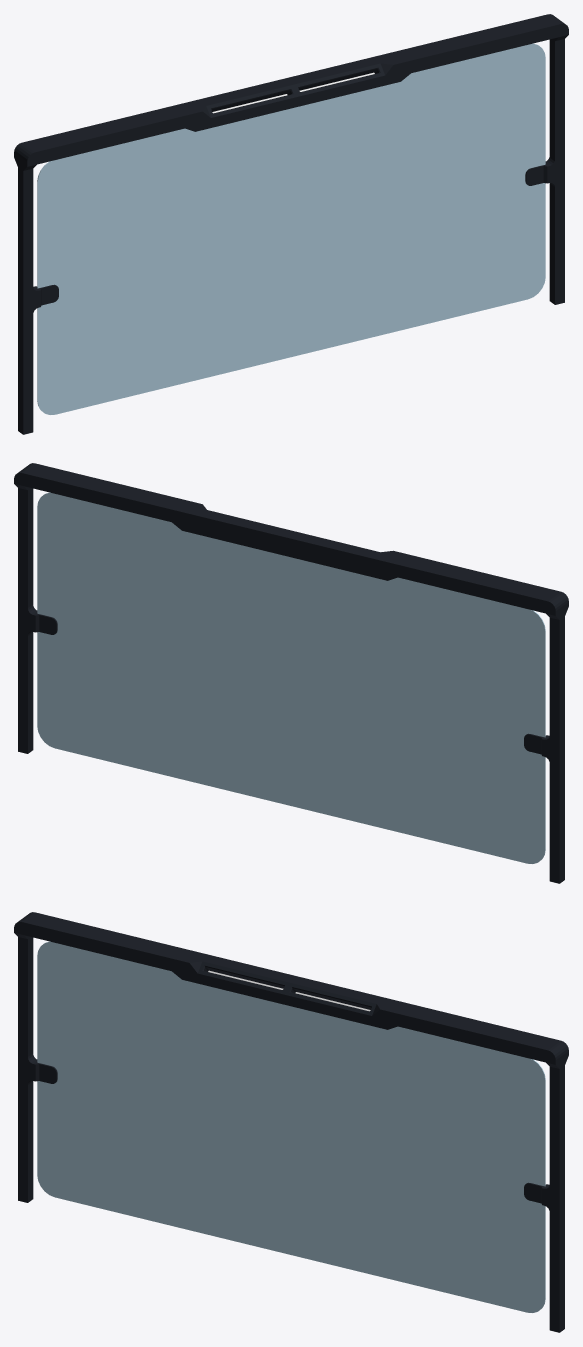
File: GLASS_RAILING.fbx
3 renders of one model, top to bottom at view 1: azimuth 30°, elevation 25°; view 2: azimuth 150°, elevation 25°; view 3: azimuth 330°, elevation 25°, orthographic.
Visible parts, largest first — view 1: Cube.039; view 2: Cube.039; view 3: Cube.039.
Boxes of the visible parts, x1,y1,x2,y2 form: Cube.039: (14, 14, 568, 434); Cube.039: (14, 463, 568, 883); Cube.039: (14, 912, 568, 1332).
Bounding box in the file's own units: 300 × 150 × 12.69.
